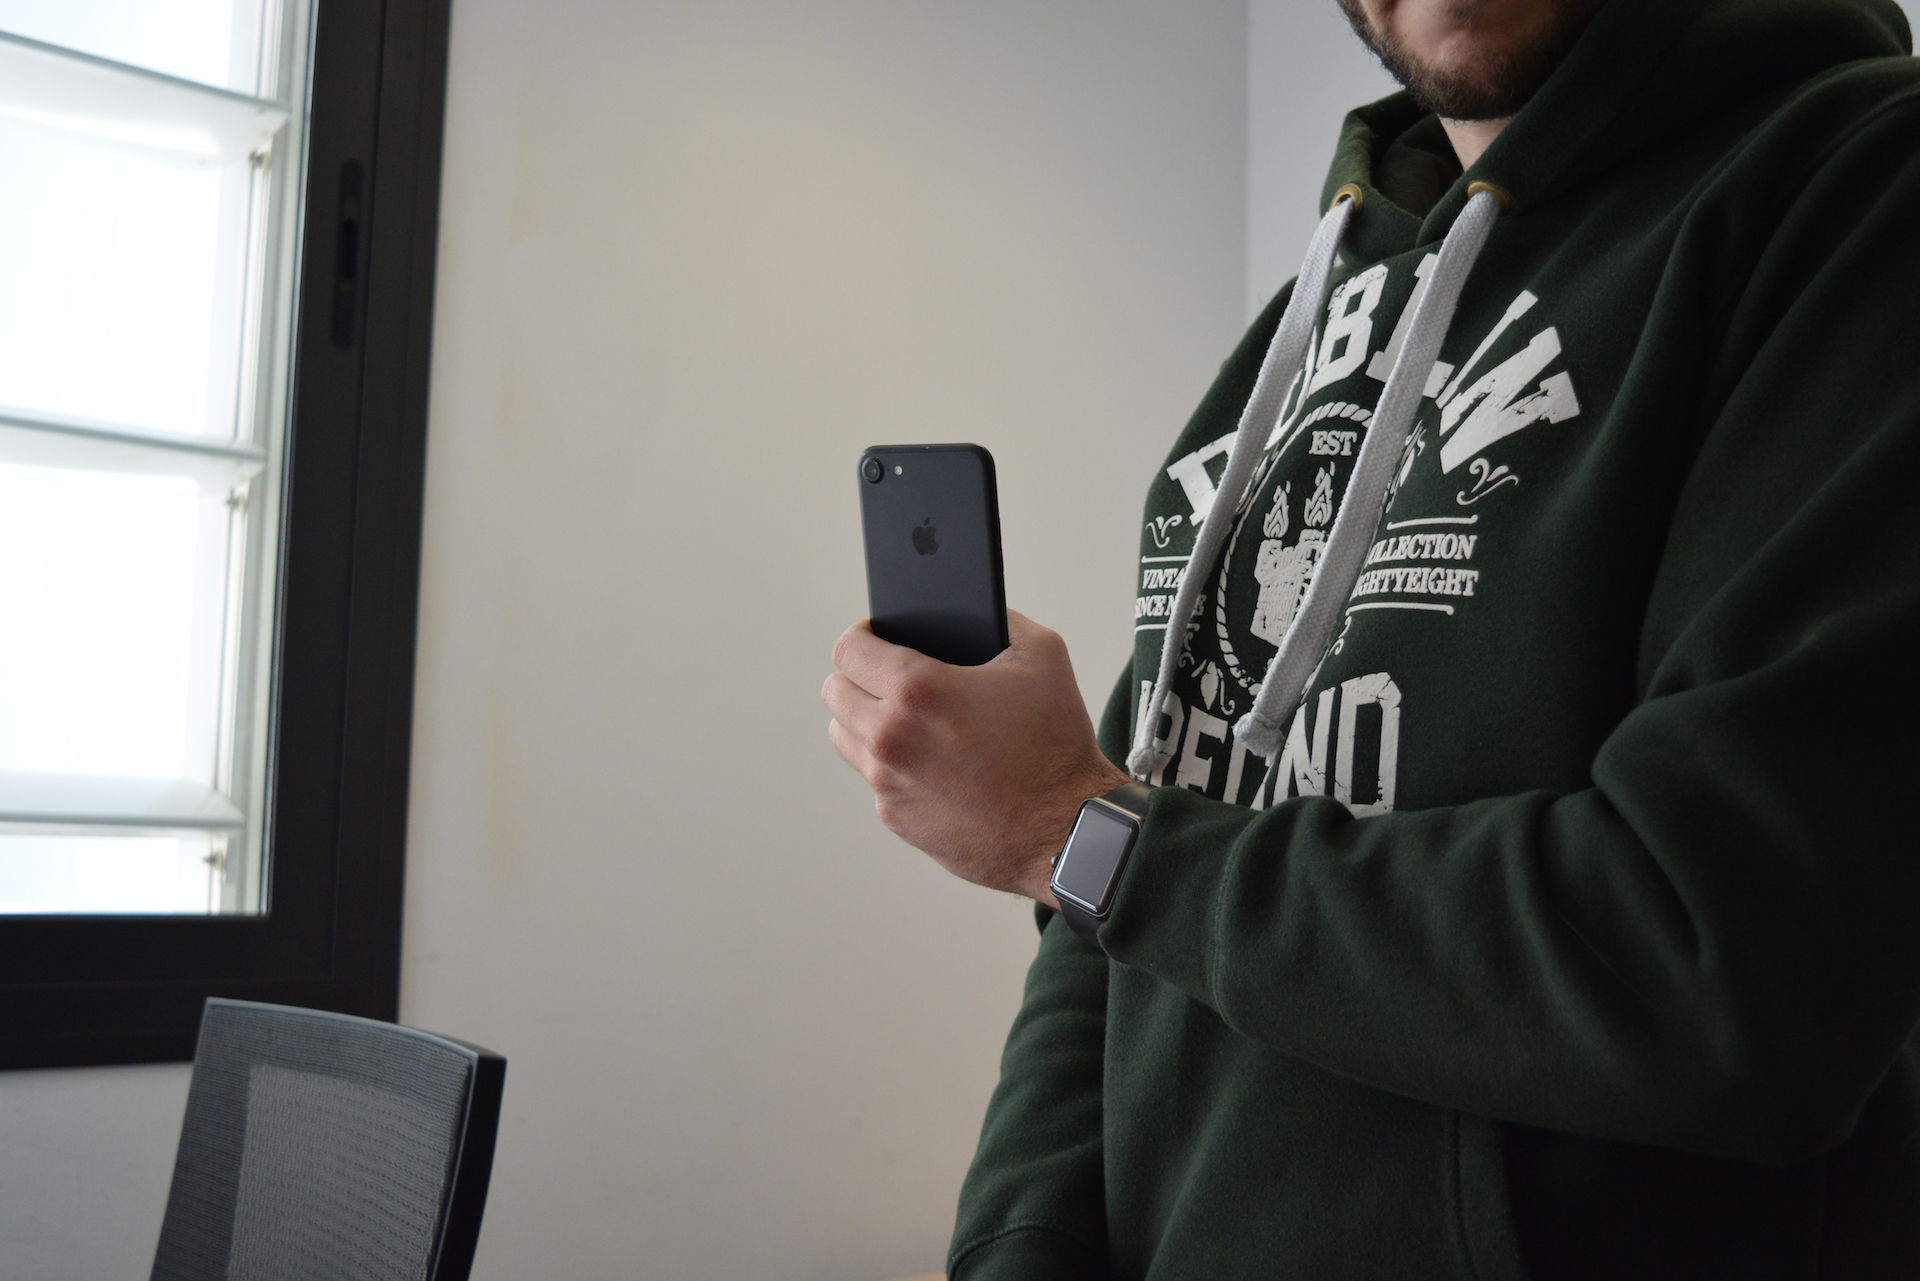smartphone: (853, 440, 1014, 671)
